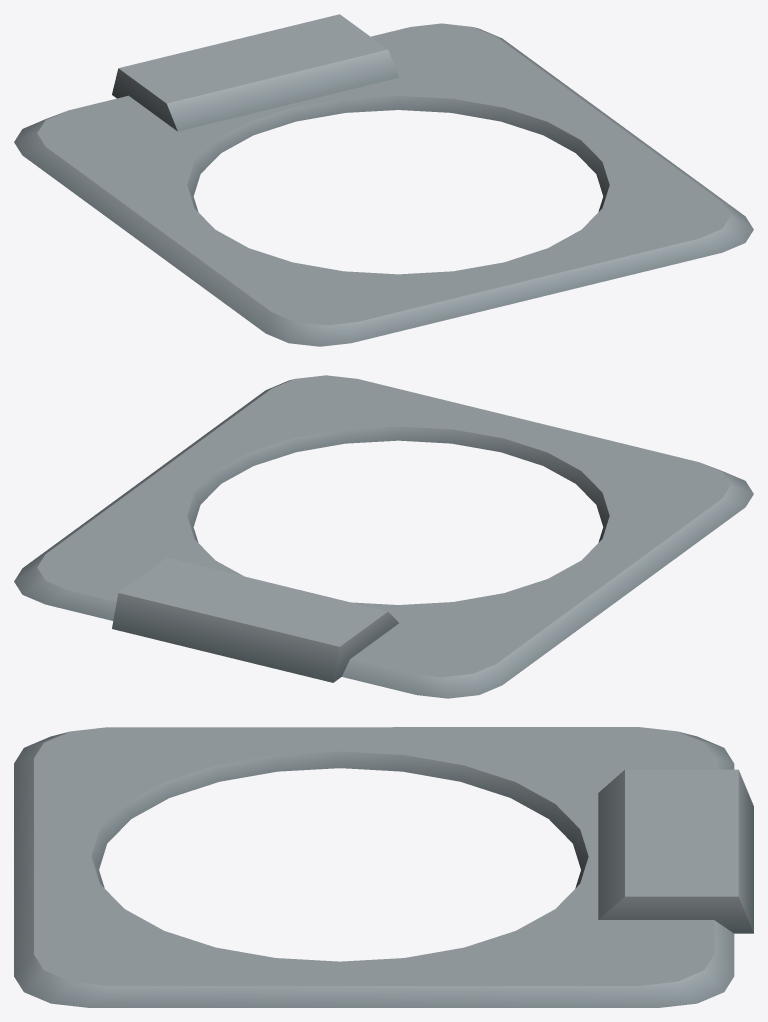
File: Hatch_008.fbx
3 renders of one model, top to bottom at view 1: azimuth 30°, elevation 25°; view 2: azimuth 150°, elevation 25°; view 3: azimuth 270°, elevation 25°, orthographic. The views are drawn at different scales.
Parts seen in each view (by area): view 1: Hatch_008; view 2: Hatch_008; view 3: Hatch_008.
Part boxes in pixels (box(x1,y1,x2,y2)): Hatch_008: box(14, 14, 753, 346); Hatch_008: box(14, 375, 753, 698); Hatch_008: box(14, 727, 753, 1007).
Bounding box in the file's own units: 87.47 × 99.25 × 5.46.
